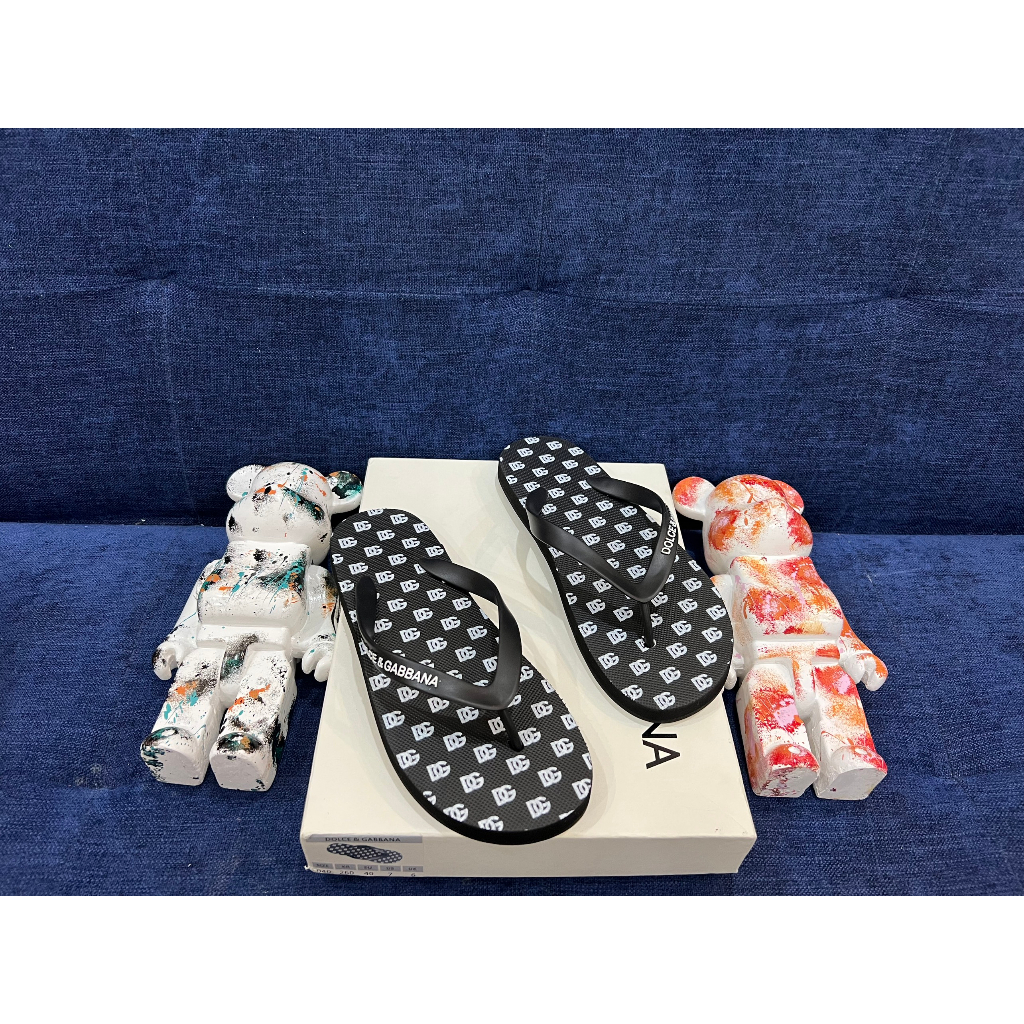flip_flops: (327, 502, 593, 846), (496, 435, 734, 725)
